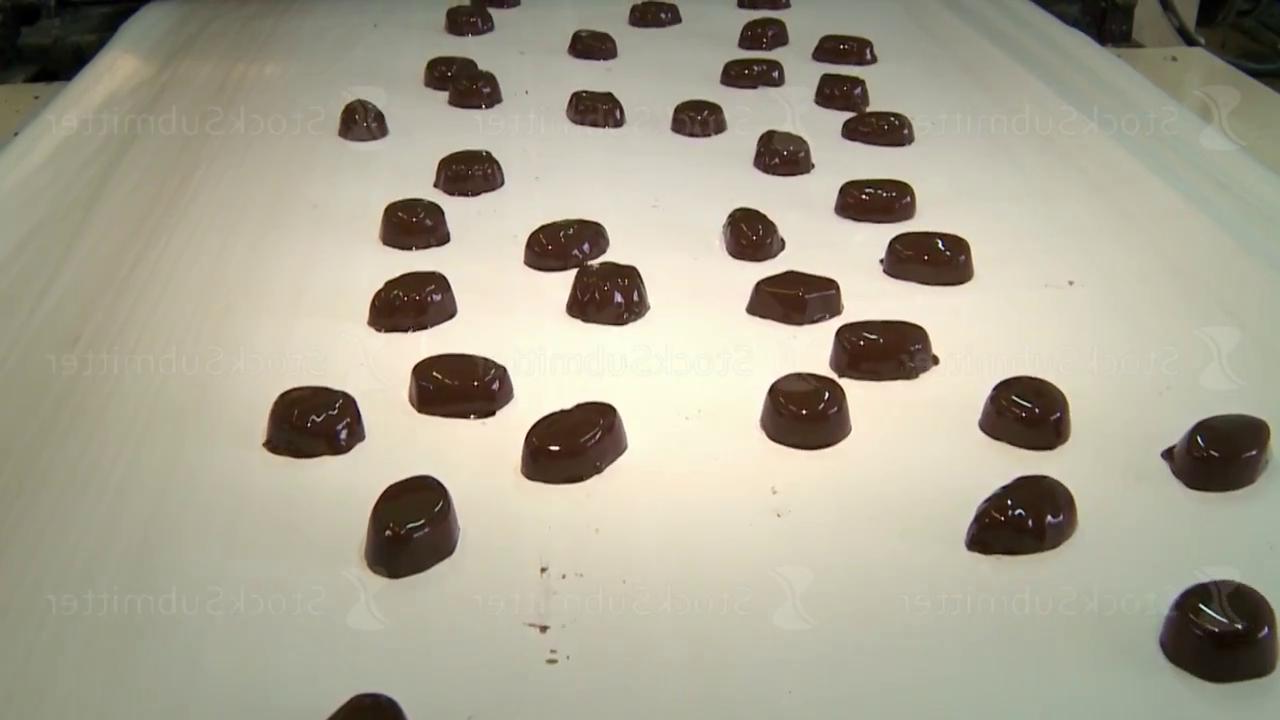chocolate: (1159, 578, 1278, 683), (364, 474, 460, 579), (965, 473, 1078, 555), (521, 400, 628, 484), (1161, 412, 1272, 492), (263, 385, 365, 458), (761, 371, 852, 449), (409, 352, 514, 419), (979, 375, 1071, 450), (830, 319, 939, 381), (368, 270, 457, 333), (567, 260, 650, 325), (747, 269, 843, 325), (882, 231, 974, 285), (524, 218, 610, 271), (380, 197, 450, 250), (835, 178, 916, 223), (723, 207, 785, 261), (434, 149, 505, 196), (754, 129, 814, 176), (842, 110, 915, 146), (566, 89, 626, 128), (327, 691, 408, 719), (448, 69, 502, 109), (338, 98, 388, 141), (671, 99, 727, 137), (815, 72, 869, 111), (813, 34, 877, 65), (721, 58, 785, 89), (739, 17, 789, 51), (568, 29, 618, 60), (446, 5, 495, 36), (629, 1, 682, 28)
